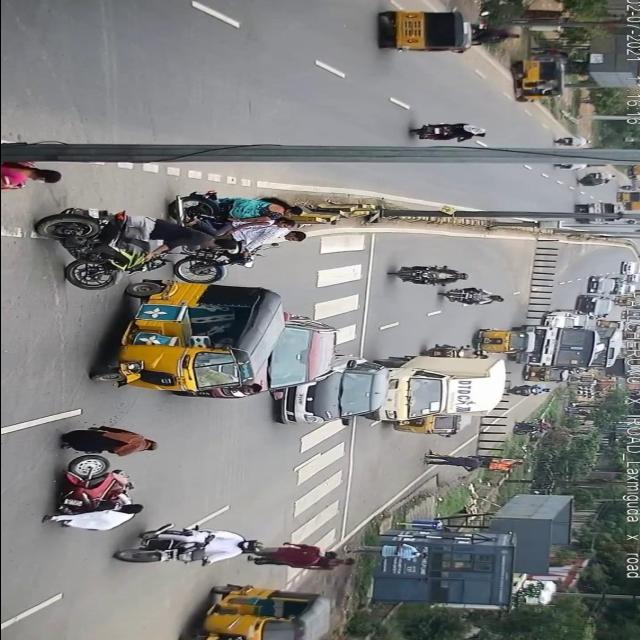accident: (37, 414, 159, 540)
non_accident: (266, 343, 512, 440), (476, 302, 600, 416), (576, 269, 621, 317), (609, 186, 639, 214)
